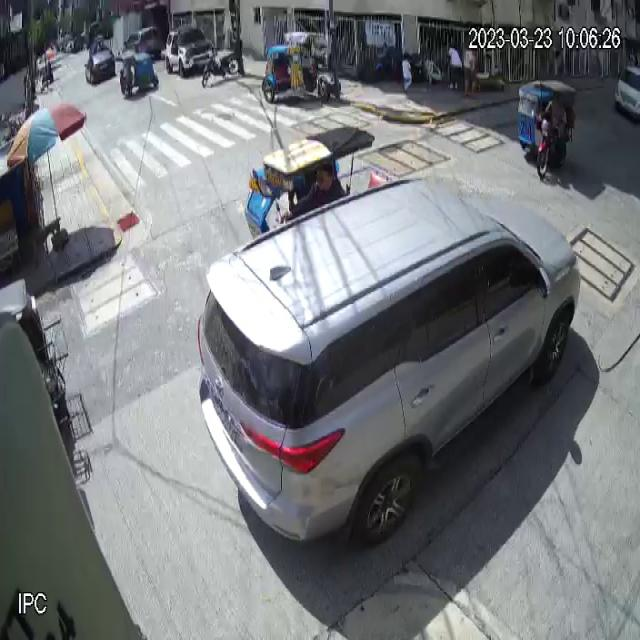Car: (194, 170, 584, 556)
Tricycle: (514, 75, 578, 178), (262, 30, 330, 104)
